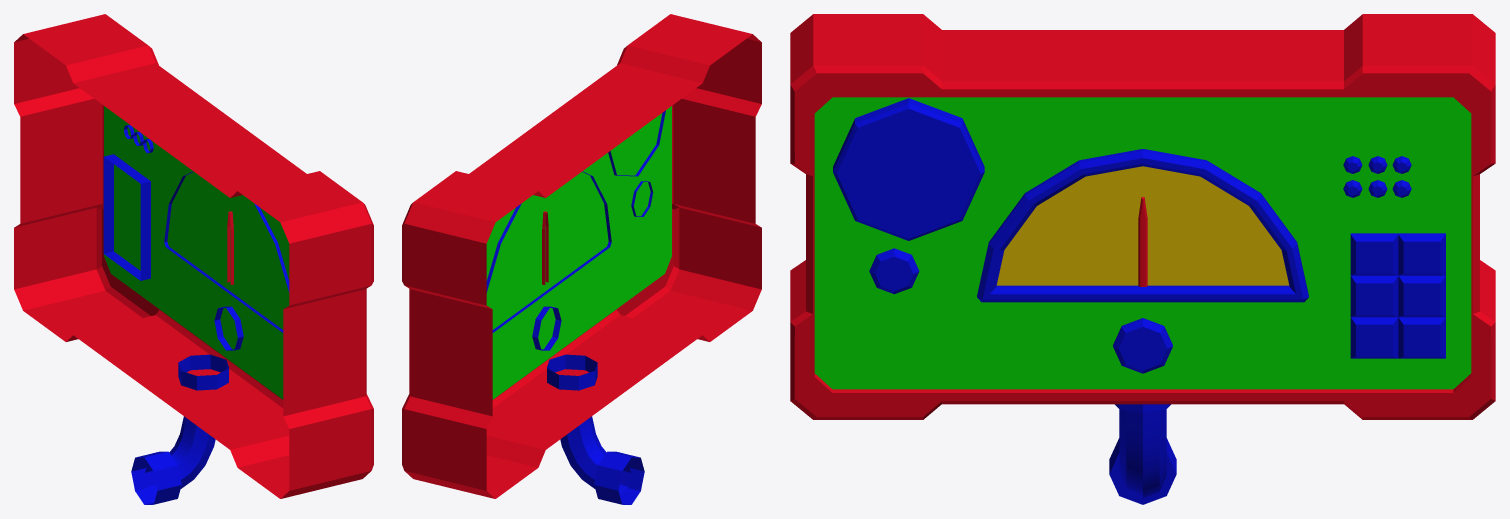
Rendered from Stereo.fbx.
3 views of the same model, side by side, from view 1: azimuth 30°, elevation 25°; view 2: azimuth 150°, elevation 25°; view 3: azimuth 270°, elevation 25° (orthographic). The views are drawn at different scales.
Parts seen in each view (by area): view 1: BezierCurve.019; view 2: BezierCurve.019; view 3: BezierCurve.019.
Boxes of the visible parts, x1=… form: BezierCurve.019: x1=14, y1=14, x2=373, y2=504; BezierCurve.019: x1=402, y1=14, x2=761, y2=504; BezierCurve.019: x1=790, y1=14, x2=1495, y2=504.
Bounding box in the file's own units: 0.5972 × 0.1239 × 0.4489.
